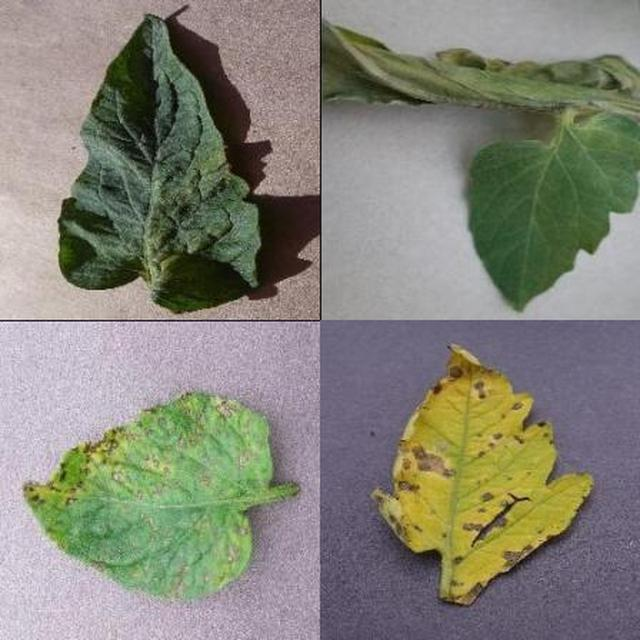Spider Mites Leaf: (212, 91, 640, 640)
